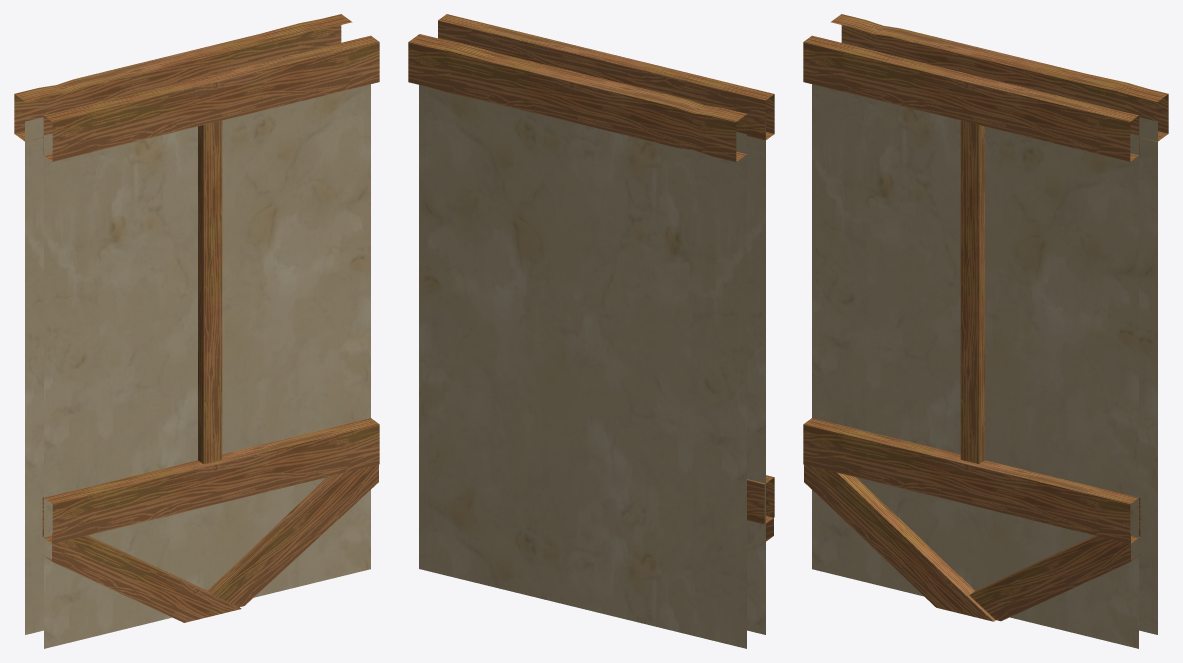
The model's file is Wall_Plaster_Straight.gltf.
The picture shows the model from 3 angles, left to right: view 1: azimuth 30°, elevation 25°; view 2: azimuth 150°, elevation 25°; view 3: azimuth 330°, elevation 25°; orthographic projection.
Parts seen in each view (by area): view 1: Wall_Plaster_Straight; view 2: Wall_Plaster_Straight; view 3: Wall_Plaster_Straight.
Boxes of the visible parts, bbox=[...] form: Wall_Plaster_Straight: bbox=[14, 14, 379, 648]; Wall_Plaster_Straight: bbox=[408, 14, 774, 648]; Wall_Plaster_Straight: bbox=[803, 14, 1168, 648].
Bounding box in the file's own units: 2 × 3.12 × 0.4065.
Materials: 2 (2 with a texture image).
